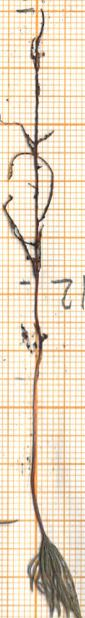flower: (22, 533, 85, 614)
root: (2, 9, 57, 277)
stem: (29, 279, 49, 532)
